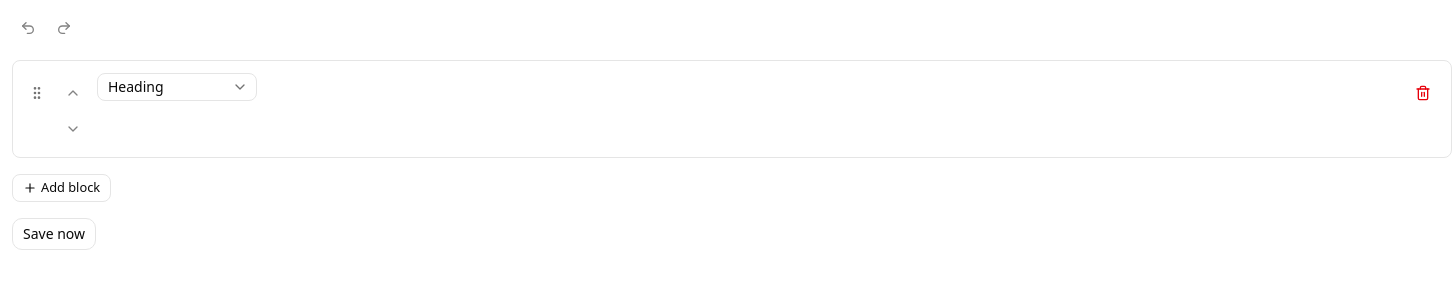
Scenario: BlockListEditor empty state › keeps the undo/redo toolbar visible after deleting the last remaining block
The image size is (1452, 287).
Click the button named "Remove block" at [1423, 93], box [1407, 77, 1439, 109]
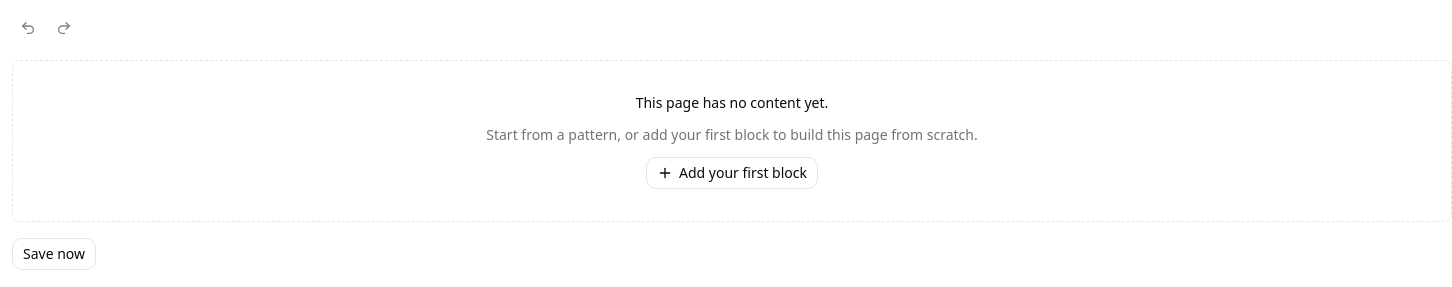
expect the button named "Undo" is shown: met, box [12, 12, 44, 44]
expect the text "This page has no content yet." is shown: met, box [636, 93, 828, 113]
